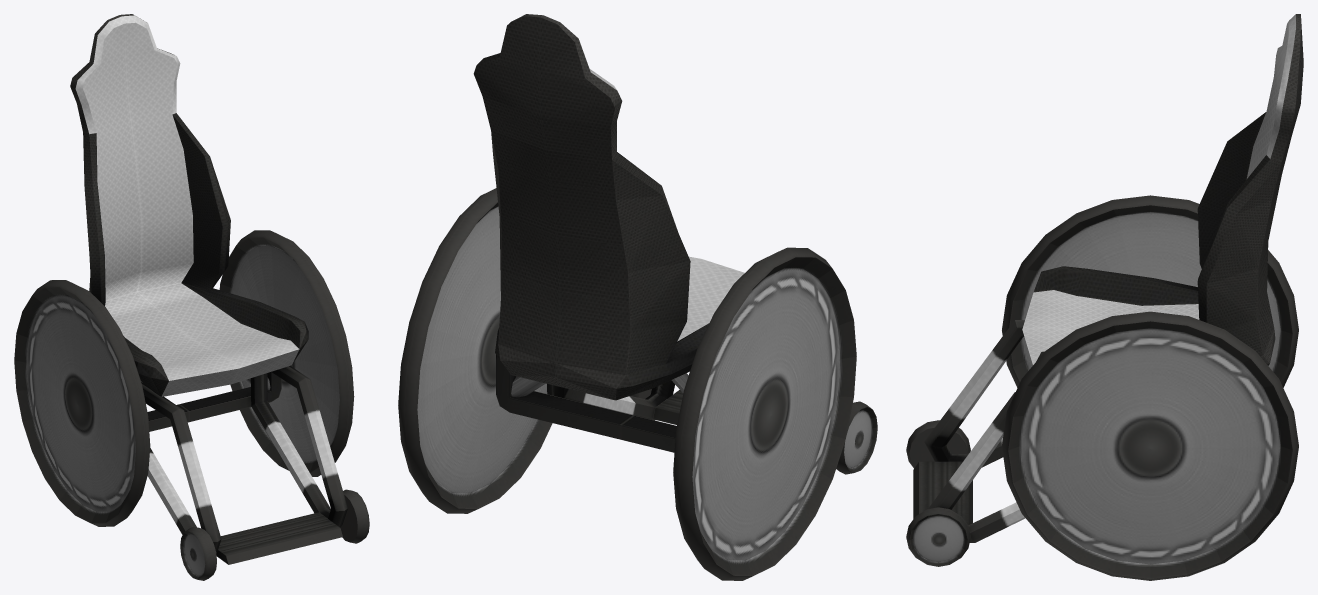
Rendered from wheelchair.FBX.
3 renders of one model, left to right at view 1: azimuth 30°, elevation 25°; view 2: azimuth 150°, elevation 25°; view 3: azimuth 270°, elevation 25°, orthographic. The views are drawn at different scales.
Visible parts, largest first — view 1: wheelchair, wheellarge_R, wheellarge_L, wheelsmall_r, wheelsmall_l; view 2: wheelchair, wheellarge_R, wheellarge_L, wheelsmall_r; view 3: wheellarge_L, wheelchair, wheellarge_R, wheelsmall_l, wheelsmall_r.
Part boxes in pixels (x1,y1,x2,y2): wheelchair: (70, 14, 347, 564); wheellarge_R: (14, 280, 150, 526); wheellarge_L: (219, 230, 354, 476); wheelsmall_r: (180, 527, 216, 580); wheelsmall_l: (340, 489, 369, 543); wheelchair: (473, 14, 744, 452); wheellarge_R: (673, 247, 856, 580); wheellarge_L: (398, 188, 552, 513); wheelsmall_r: (836, 401, 877, 474); wheellarge_L: (1002, 311, 1298, 580); wheelchair: (913, 14, 1303, 542); wheellarge_R: (1002, 195, 1298, 387); wheelsmall_l: (906, 507, 970, 566); wheelsmall_r: (906, 420, 970, 468).
Size of the model in its own units: 31.18 by 59.01 by 42.17.
Materials: 1 (1 with a texture image).
